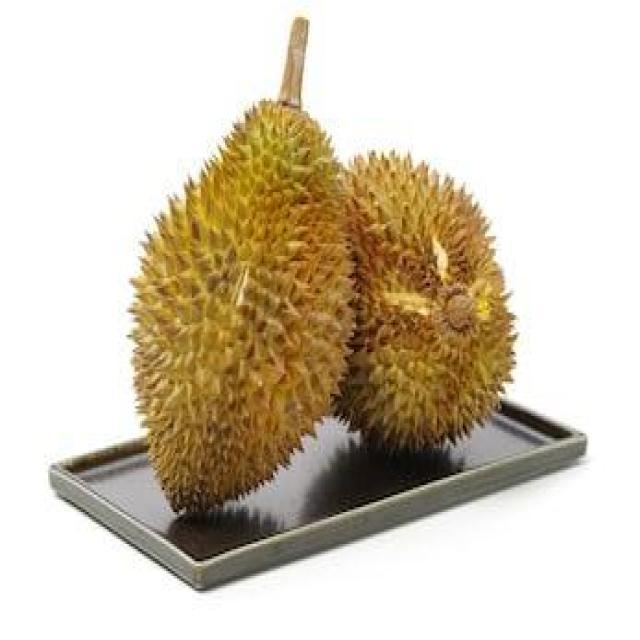mature: (132, 100, 351, 511), (336, 153, 514, 450)
